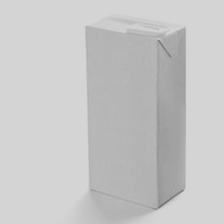carton: (75, 10, 190, 212)
